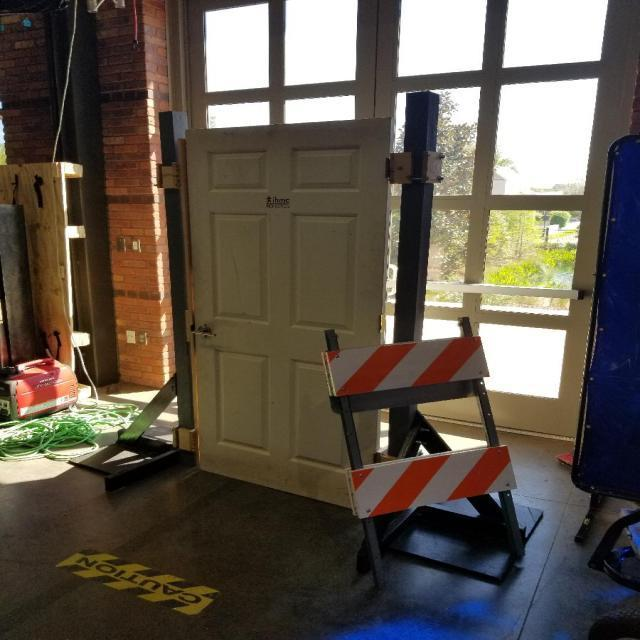door: (181, 115, 397, 515), (192, 322, 226, 343)
